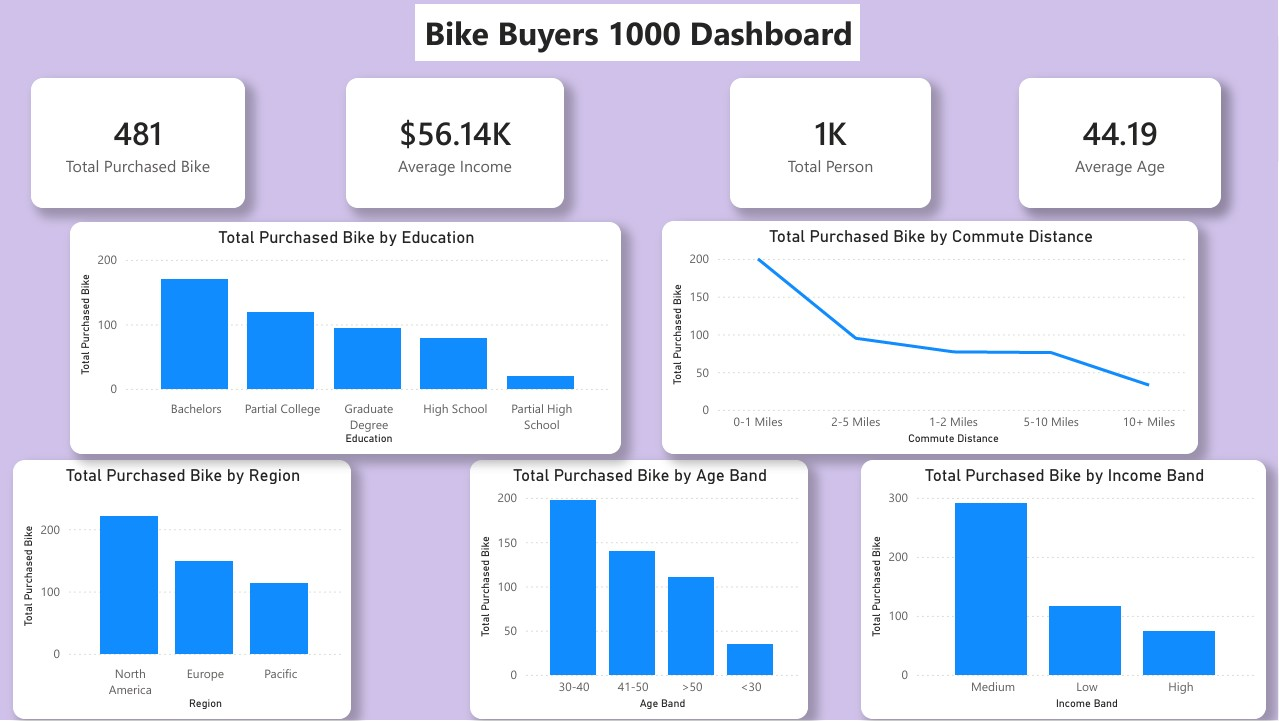

This screenshot's page, from the dashboard's own definition file:
{"tool":"powerbi","page":{"name":"Page 1","canvas":[1280,720],"ordinal":0},"visuals":[{"type":"textbox","box":[417.3,0,444.5,57.4],"z":0},{"type":"cardVisual","fields":{"Data":["bike_buyers_final.Total_Purchased_Bike"]},"box":[32.1,76.8,214,130.3],"z":1},{"type":"cardVisual","fields":{"Data":["bike_buyers_final.Average_Income"]},"box":[347.2,76.8,217.9,130.3],"z":2},{"type":"cardVisual","fields":{"Data":["bike_buyers_final.Total_Person"]},"box":[731.4,76.8,200.4,130.3],"z":3},{"type":"cardVisual","fields":{"Data":["bike_buyers_final.Average_Age"]},"box":[1020.3,76.8,201.3,130.3],"z":4},{"type":"columnChart","fields":{"Category":["bike_buyers_final.age_band"],"Y":["bike_buyers_final.Total_Purchased_Bike"]},"box":[470.8,461,338.5,258.7],"z":5},{"type":"columnChart","fields":{"Category":["bike_buyers_final.Region"],"Y":["bike_buyers_final.Total_Purchased_Bike"]},"box":[13.6,461,338.5,258.7],"z":7},{"type":"lineChart","fields":{"Category":["bike_buyers_final.Commute Distance"],"Y":["bike_buyers_final.Total_Purchased_Bike"]},"box":[663.3,219.8,535.9,233.4],"z":9},{"type":"columnChart","fields":{"Category":["bike_buyers_final.Education"],"Y":["bike_buyers_final.Total_Purchased_Bike"]},"box":[71,220.8,551.5,232.5],"z":10},{"type":"columnChart","fields":{"Category":["bike_buyers_final.income_band"],"Y":["bike_buyers_final.Total_Purchased_Bike"]},"box":[861.8,461,405.6,258.7],"z":11}]}

Visuals, with their boxes in screenshot pixels (x1, y1, x2, y2), scaled from the page's 1280x720 canvas onto the 1279x721 screenshot:
textbox: l=417, t=0, r=861, b=57
cardVisual - bike_buyers_final.Total_Purchased_Bike: l=32, t=77, r=246, b=207
cardVisual - bike_buyers_final.Average_Income: l=347, t=77, r=565, b=207
cardVisual - bike_buyers_final.Total_Person: l=731, t=77, r=931, b=207
cardVisual - bike_buyers_final.Average_Age: l=1020, t=77, r=1221, b=207
columnChart - bike_buyers_final.age_band x bike_buyers_final.Total_Purchased_Bike: l=470, t=462, r=809, b=720
columnChart - bike_buyers_final.Region x bike_buyers_final.Total_Purchased_Bike: l=14, t=462, r=352, b=720
lineChart - bike_buyers_final.Commute Distance x bike_buyers_final.Total_Purchased_Bike: l=663, t=220, r=1198, b=454
columnChart - bike_buyers_final.Education x bike_buyers_final.Total_Purchased_Bike: l=71, t=221, r=622, b=454
columnChart - bike_buyers_final.income_band x bike_buyers_final.Total_Purchased_Bike: l=861, t=462, r=1266, b=720
